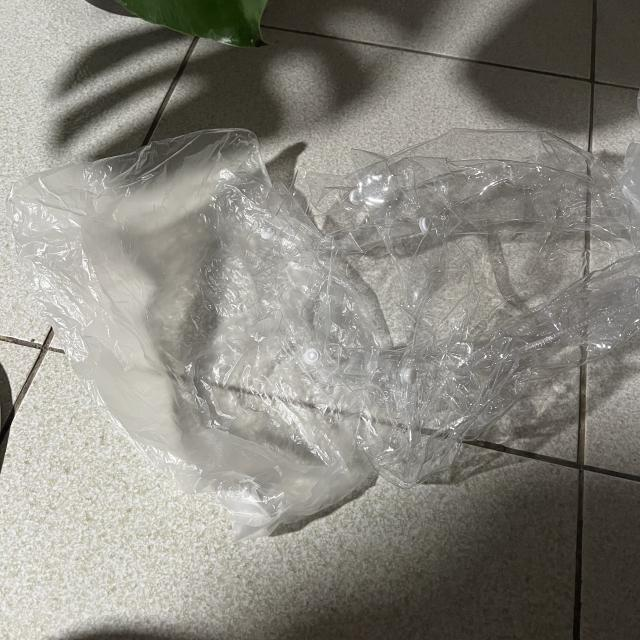Single-layer Plastic: (10, 130, 384, 537), (325, 130, 640, 486), (0, 0, 1, 1)
